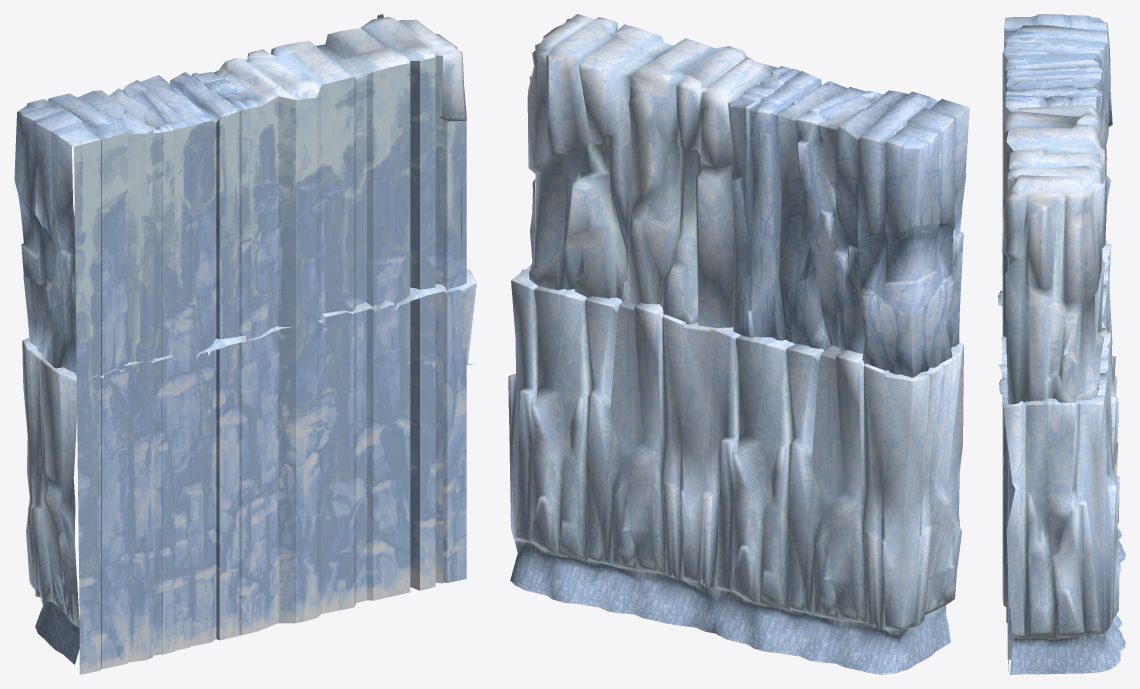
File: bel_env_cliff_uberwall_01.glb
3 renders of one model, left to right at view 1: azimuth 30°, elevation 25°; view 2: azimuth 150°, elevation 25°; view 3: azimuth 270°, elevation 25°, orthographic. The views are drawn at different scales.
Visible parts, largest first — view 1: bel_env_cliff_uberwall_01; view 2: bel_env_cliff_uberwall_01; view 3: bel_env_cliff_uberwall_01.
Boxes of the visible parts, bbox=[...] form: bel_env_cliff_uberwall_01: bbox=[14, 14, 476, 674]; bel_env_cliff_uberwall_01: bbox=[508, 14, 969, 674]; bel_env_cliff_uberwall_01: bbox=[998, 14, 1125, 674].
Bounding box in the file's own units: 20.09 × 24.46 × 5.82.
Materials: 2 (2 with a texture image).
